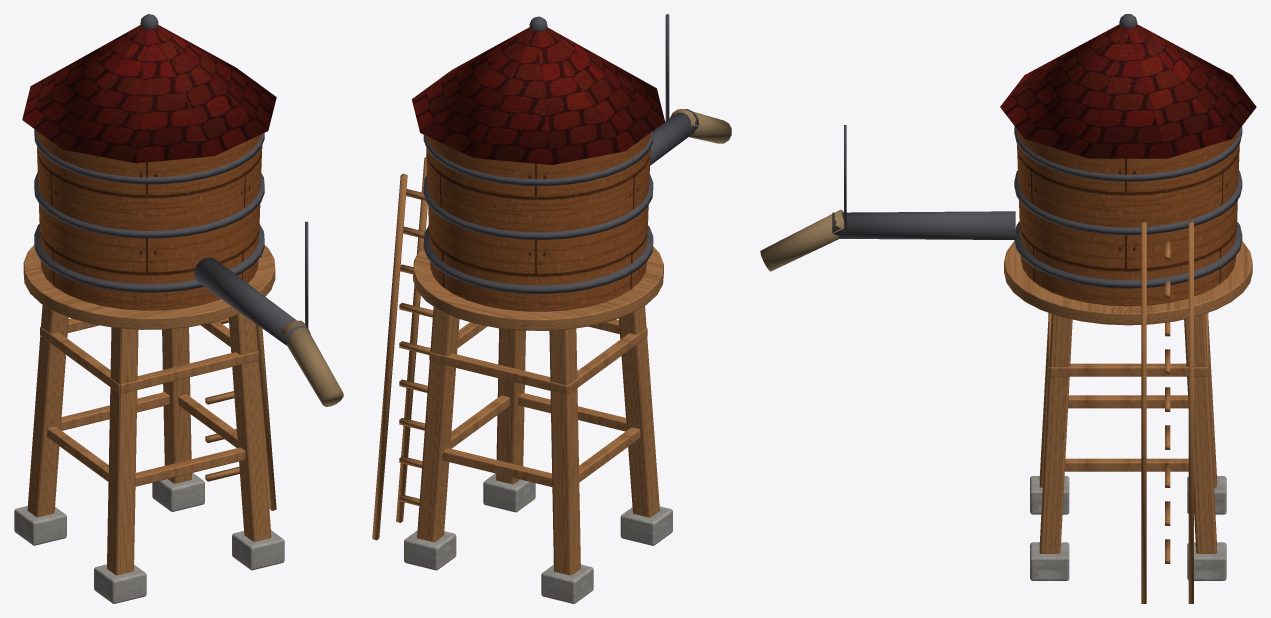
The model's file is watertower.glb.
3 views of the same model, side by side, from view 1: azimuth 30°, elevation 25°; view 2: azimuth 150°, elevation 25°; view 3: azimuth 270°, elevation 25° (orthographic).
Visible parts, largest first — view 1: wt_tank, wt_roof, wt_leg, wt_leg.002, wt_deck, wt_leg.001, wt_leg.003, wt_spoutpipe, wt_spoutsock, wt_hoop.001, wt_hoop, wt_hoop.002 (+11 smaller); view 2: wt_tank, wt_roof, wt_leg.001, wt_deck, wt_leg.003, wt_leg, wt_leg.002, wt_ladder.001, wt_hoop, wt_hoop.001, wt_ladder, wt_hoop.002 (+13 smaller); view 3: wt_tank, wt_roof, wt_deck, wt_leg.002, wt_spoutpipe, wt_leg.003, wt_hoop, wt_ladder, wt_ladder.001, wt_spoutsock, wt_hoop.001, wt_brace.007 (+6 smaller).
Part boxes in pixels (<box>): wt_tank: <box>36,131,262,310</box>; wt_roof: <box>22,24,276,163</box>; wt_leg: <box>107,327,138,575</box>; wt_leg.002: <box>228,313,271,541</box>; wt_deck: <box>23,244,275,329</box>; wt_leg.001: <box>27,305,68,517</box>; wt_leg.003: <box>162,327,191,483</box>; wt_spoutpipe: <box>194,257,310,345</box>; wt_spoutsock: <box>281,320,343,406</box>; wt_hoop.001: <box>34,172,264,238</box>; wt_hoop: <box>34,224,264,292</box>; wt_hoop.002: <box>34,129,264,184</box>; wt_tank: <box>426,133,650,311</box>; wt_roof: <box>412,27,664,164</box>; wt_leg.001: <box>549,328,580,575</box>; wt_deck: <box>413,246,663,330</box>; wt_leg.003: <box>417,307,459,541</box>; wt_leg: <box>618,306,659,517</box>; wt_leg.002: <box>496,328,525,484</box>; wt_ladder.001: <box>372,173,407,540</box>; wt_hoop: <box>423,225,653,293</box>; wt_hoop.001: <box>423,173,653,239</box>; wt_ladder: <box>396,157,427,522</box>; wt_hoop.002: <box>423,131,653,185</box>; wt_tank: <box>1016,129,1239,306</box>; wt_roof: <box>1000,24,1256,158</box>; wt_deck: <box>1004,241,1252,325</box>; wt_leg.002: <box>1039,314,1072,553</box>; wt_spoutpipe: <box>832,211,1015,239</box>; wt_leg.003: <box>1184,314,1217,553</box>; wt_hoop: <box>1014,221,1242,288</box>; wt_ladder: <box>1141,221,1146,603</box>; wt_ladder.001: <box>1188,221,1193,603</box>; wt_spoutsock: <box>760,209,846,271</box>; wt_hoop.001: <box>1014,170,1242,235</box>; wt_brace.007: <box>1049,363,1206,376</box>.
Size of the model in its own units: 2.11 by 4.43 by 3.79.
6 materials, 4 textured.
